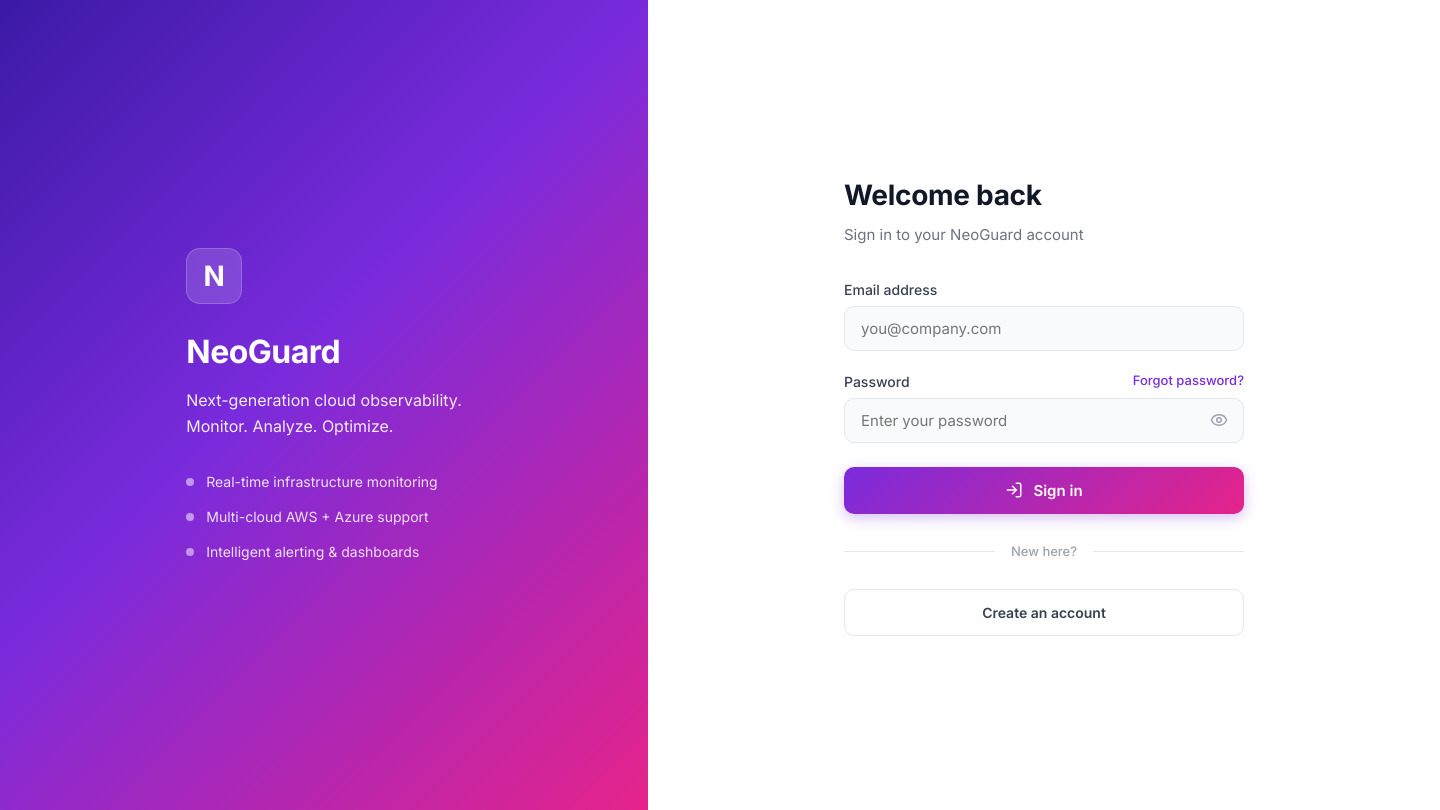
LoginPage › displays error message on failed login
In the field with placeholder "you@company.com": (1044, 328) [844,306,1244,350], type "test@test.com"
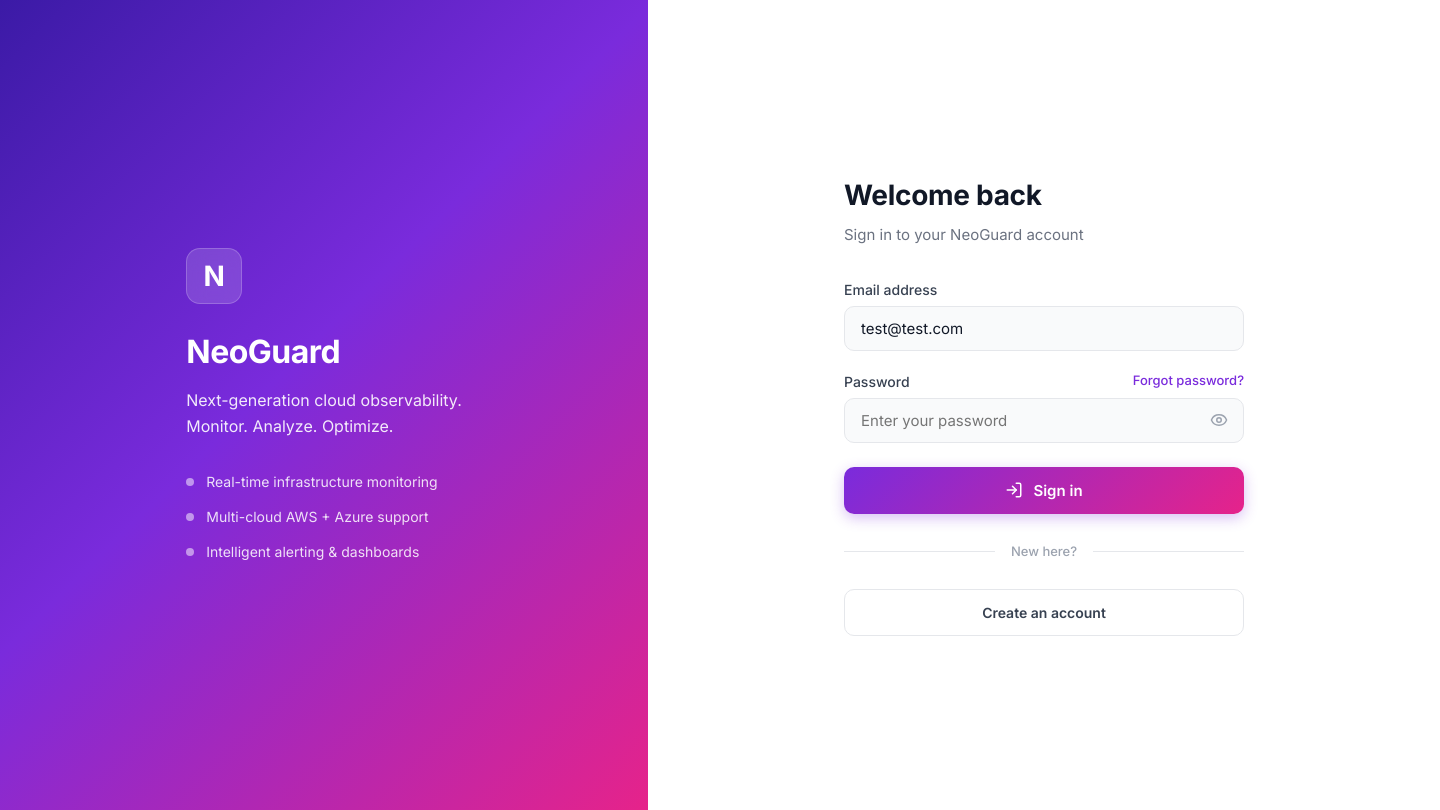
In the password field with placeholder "Enter your password": (1044, 420) [844,398,1244,442], type "wrong"
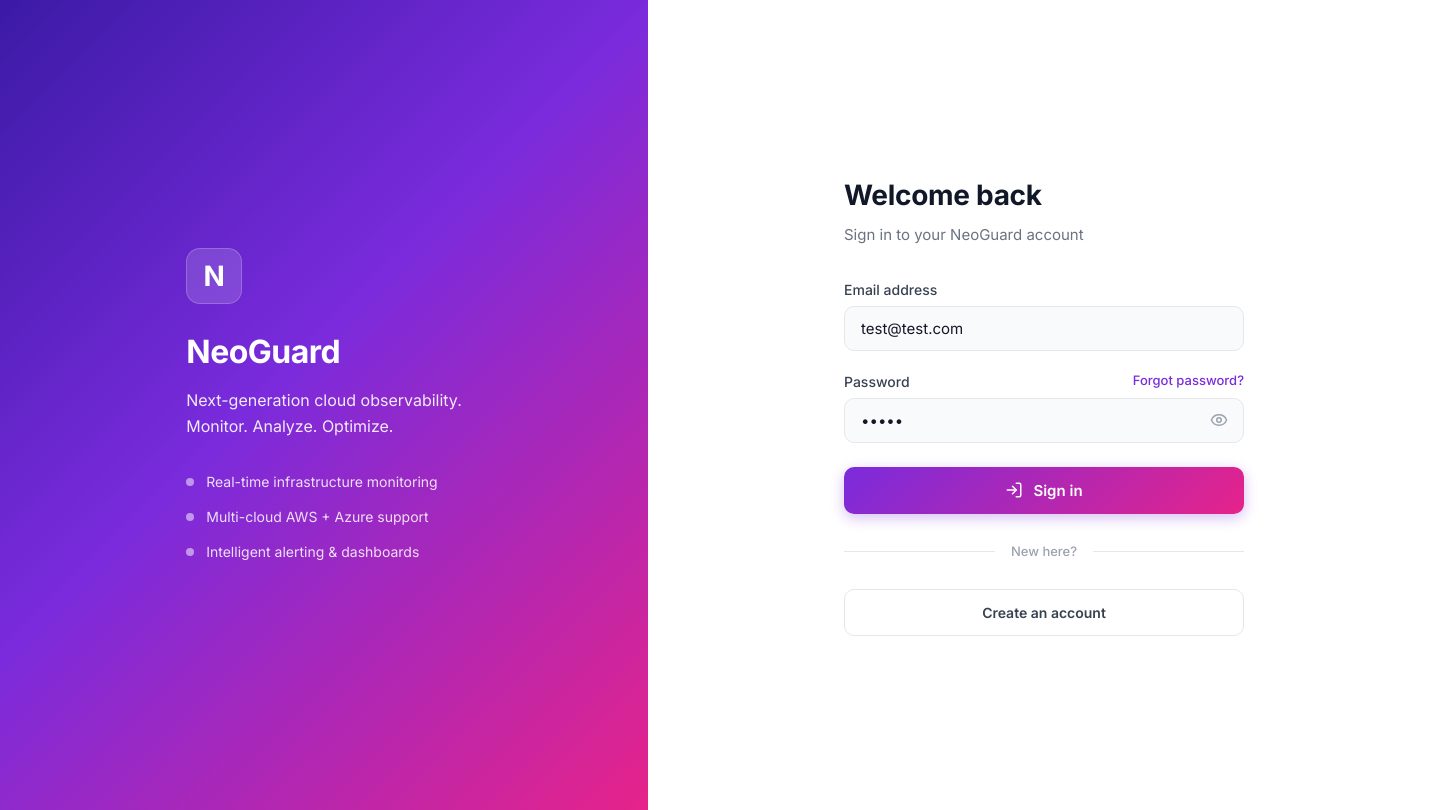
Click the button "Sign in": (1044, 490) [844,466,1244,514]
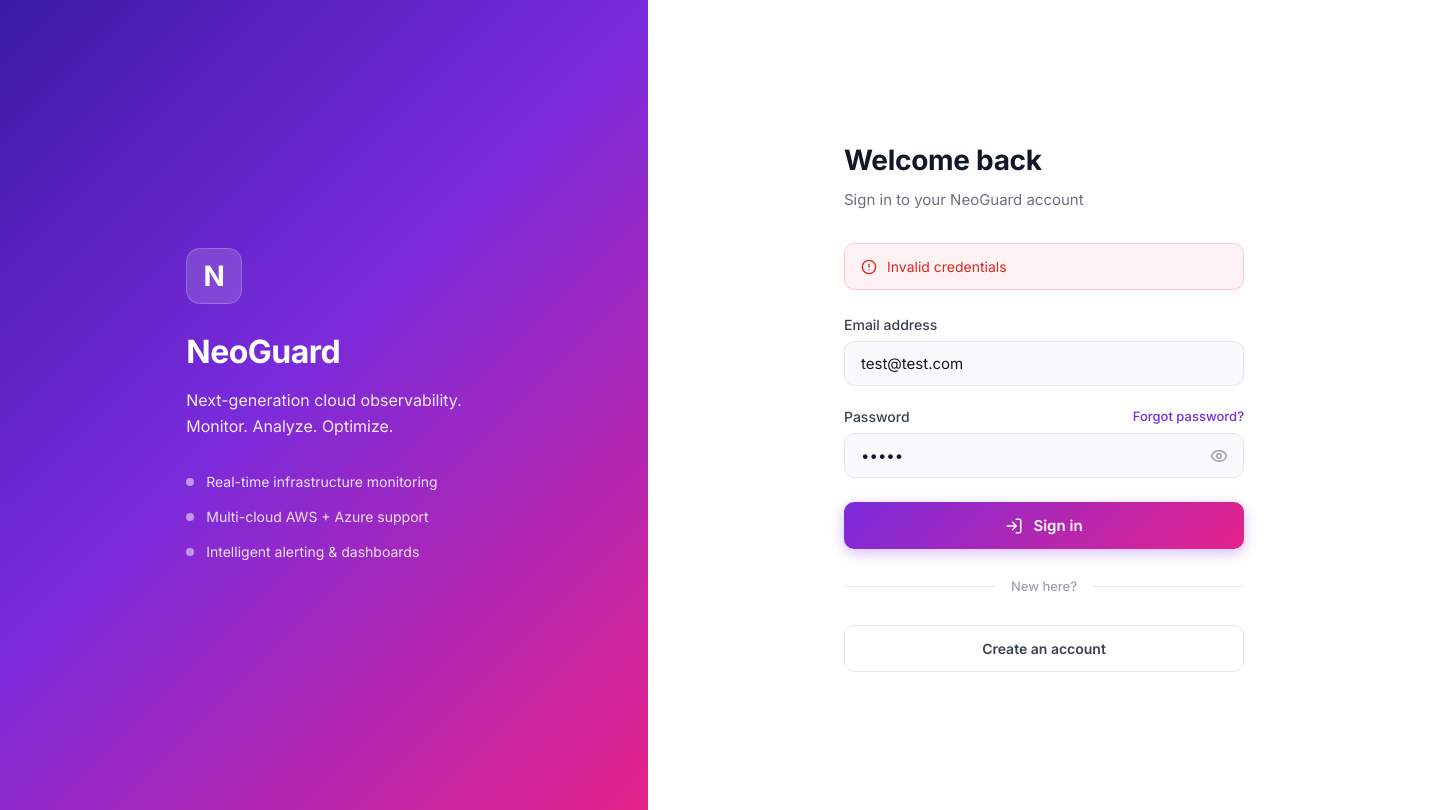
Now the text "Invalid credentials" is shown, box [887,256,1007,277]
